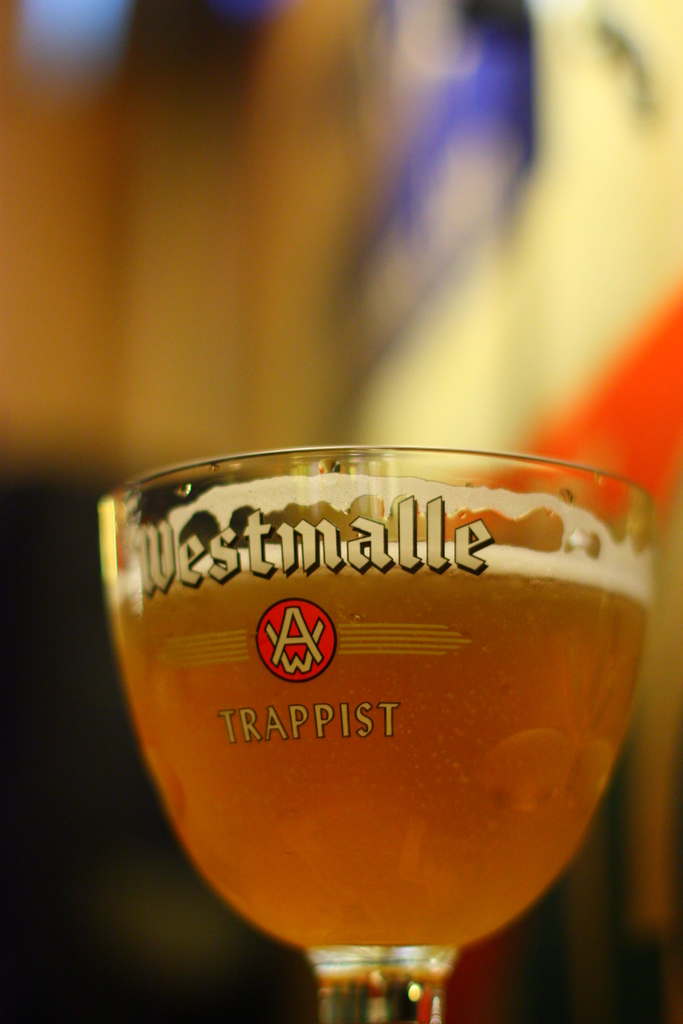Beer: (105, 421, 657, 1022)
